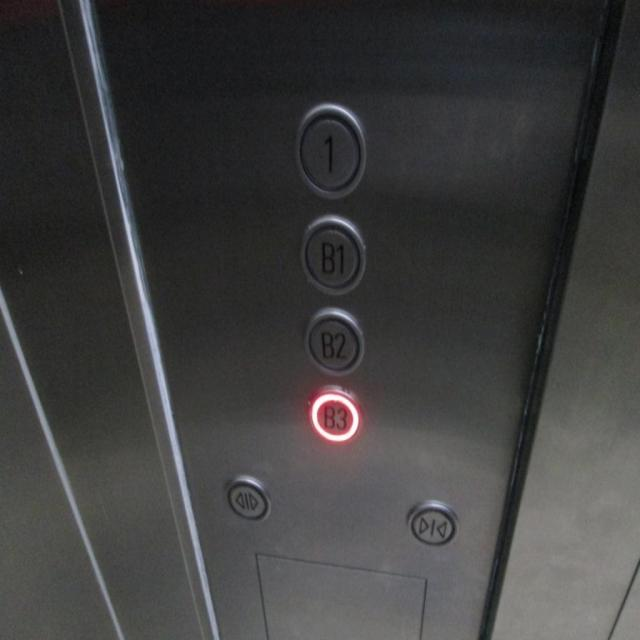1: (294, 101, 366, 200)
B1: (298, 212, 366, 298)
B2: (303, 304, 365, 377)
B3: (307, 384, 361, 444)
close: (404, 498, 459, 548)
open: (224, 474, 272, 524)
